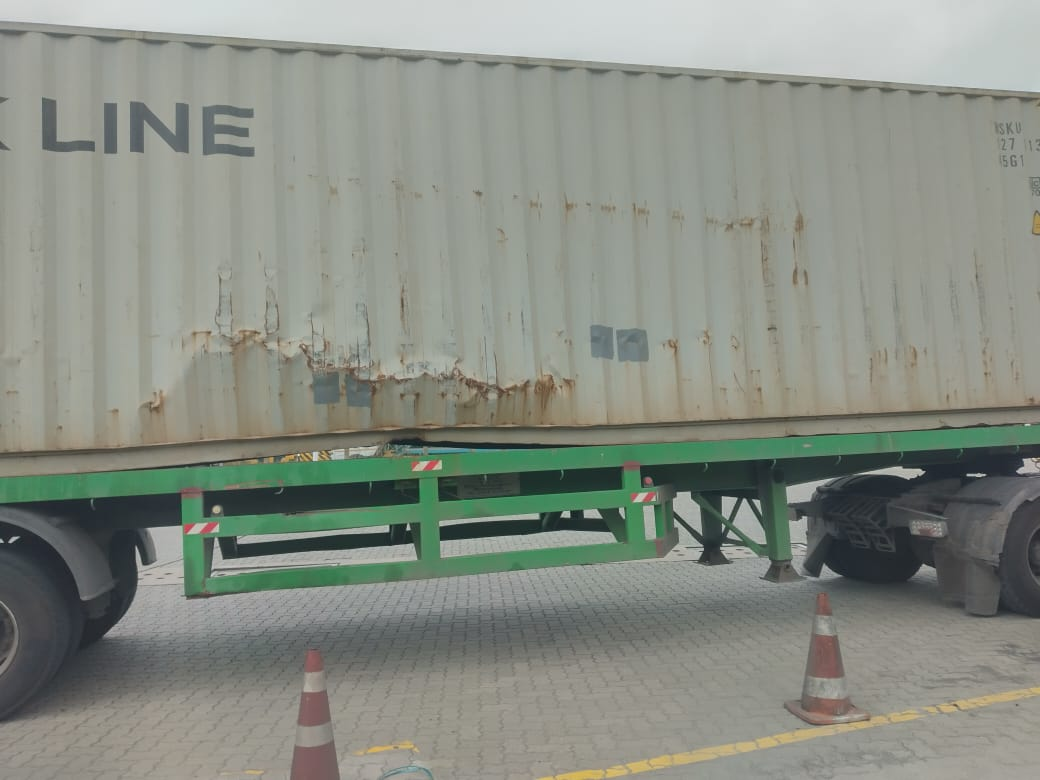bulged: (180, 306, 586, 420)
rust: (511, 183, 803, 242)
